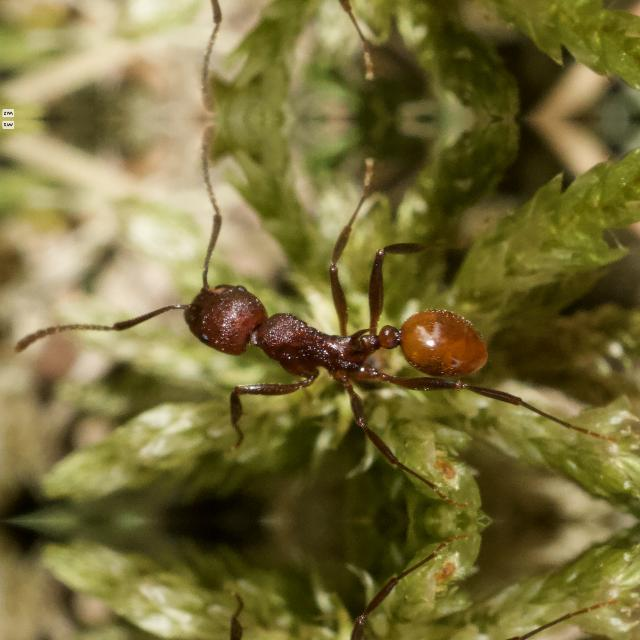Apheanogaster: (142, 260, 514, 416)
